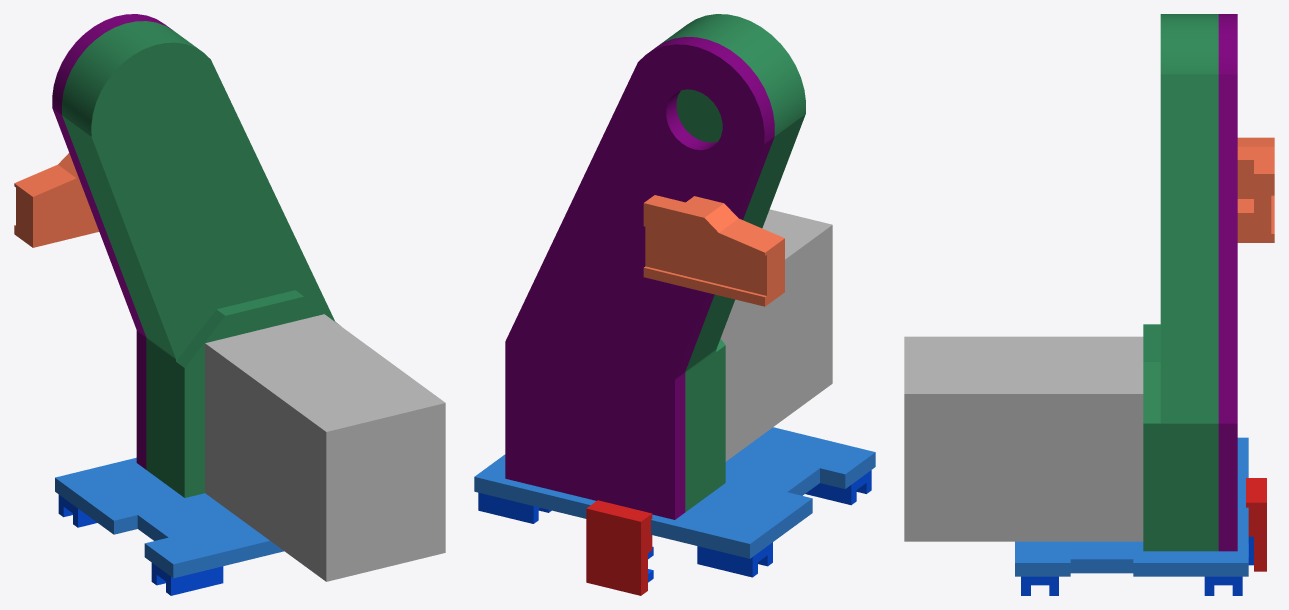
The model's file is palkam.glb.
The picture shows the model from 3 angles, left to right: view 1: azimuth 30°, elevation 25°; view 2: azimuth 150°, elevation 25°; view 3: azimuth 270°, elevation 25°; orthographic projection. The views are drawn at different scales.
Visible parts, largest first — view 1: 01 - 02 - KUTU G\X\D6VDE, SE180-2-114.3M12, 04 - 09 - KUTU TUTUCU PLAKA, 03 - 21 - KA\X2\015E\X0\IK ALTLI\X2\011E\X0\I, 01 - 03 - KUTU KAPAK, SOLID007; view 2: 01 - 03 - KUTU KAPAK, SE180-2-114.3M12, 01 - 02 - KUTU G\X\D6VDE, 04 - 09 - KUTU TUTUCU PLAKA, 03 - 21 - KA\X2\015E\X0\IK ALTLI\X2\011E\X0\I, 01 - 04 - DESTEK APARATI, SOLID008, SOLID005, SOLID007; view 3: SE180-2-114.3M12, 01 - 02 - KUTU G\X\D6VDE, 01 - 03 - KUTU KAPAK, 04 - 09 - KUTU TUTUCU PLAKA, 03 - 21 - KA\X2\015E\X0\IK ALTLI\X2\011E\X0\I, 01 - 04 - DESTEK APARATI, SOLID005, SOLID006.
Boxes of the visible parts, x1,y1,x2,y2 form: 01 - 02 - KUTU G\X\D6VDE: (62,21,340,497); SE180-2-114.3M12: (205,314,445,581); 04 - 09 - KUTU TUTUCU PLAKA: (55,457,283,578); 03 - 21 - KA\X2\015E\X0\IK ALTLI\X2\011E\X0\I: (14,153,99,247); 01 - 03 - KUTU KAPAK: (52,14,171,469); SOLID007: (151,563,223,595); 01 - 03 - KUTU KAPAK: (505,37,774,519); SE180-2-114.3M12: (720,209,832,461); 01 - 02 - KUTU G\X\D6VDE: (657,14,805,511); 04 - 09 - KUTU TUTUCU PLAKA: (474,427,875,558); 03 - 21 - KA\X2\015E\X0\IK ALTLI\X2\011E\X0\I: (643,195,784,306); 01 - 04 - DESTEK APARATI: (586,500,652,595); SOLID008: (697,542,772,577); SOLID005: (478,492,551,523); SOLID007: (805,470,871,505); SE180-2-114.3M12: (904,336,1143,541); 01 - 02 - KUTU G\X\D6VDE: (1143,14,1218,551); 01 - 03 - KUTU KAPAK: (1218,14,1237,551); 04 - 09 - KUTU TUTUCU PLAKA: (1015,437,1248,576); 03 - 21 - KA\X2\015E\X0\IK ALTLI\X2\011E\X0\I: (1237,137,1274,242); 01 - 04 - DESTEK APARATI: (1246,478,1266,571); SOLID005: (1204,576,1242,595); SOLID006: (1021,576,1058,595).
Bounding box in the file's own units: 0.6025 × 1.03 × 0.682.
